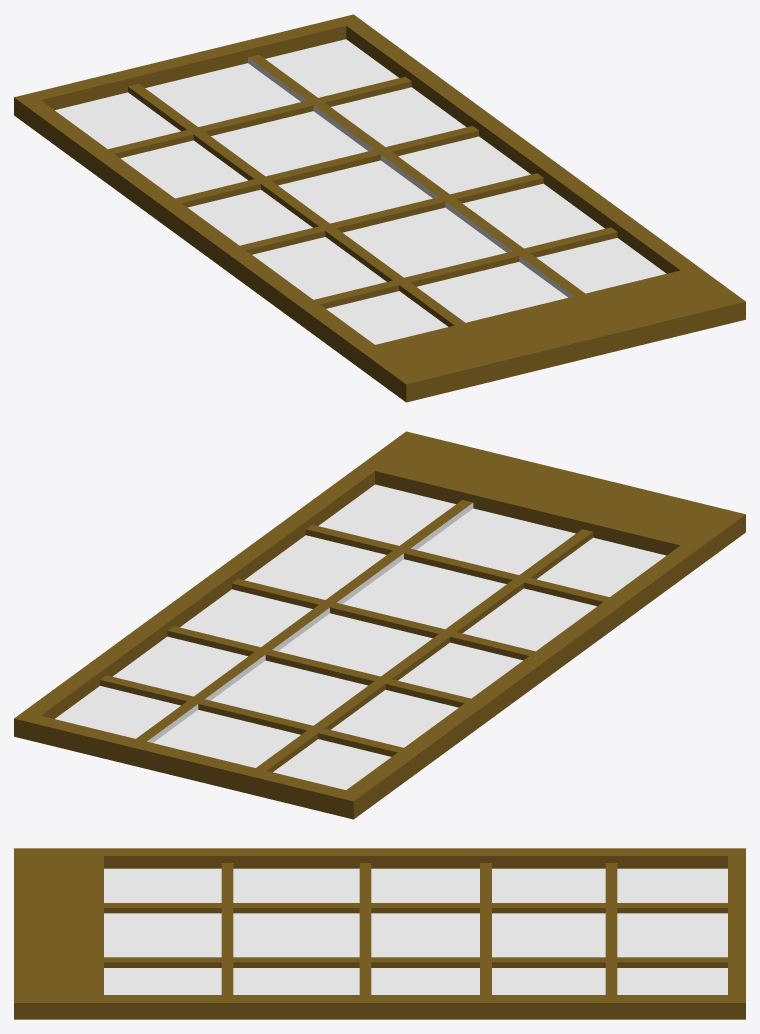
The model's file is syouzi.fbx.
3 views of the same model, one above another, from view 1: azimuth 30°, elevation 25°; view 2: azimuth 150°, elevation 25°; view 3: azimuth 270°, elevation 25° (orthographic). The views are drawn at different scales.
Parts seen in each view (by area): view 1: 平面; view 2: 平面; view 3: 平面.
Boxes of the visible parts, bbox=[...] form: 平面: bbox=[14, 14, 745, 402]; 平面: bbox=[14, 431, 745, 819]; 平面: bbox=[14, 848, 745, 1019].
Size of the model in its own units: 400 by 20.36 by 800.
